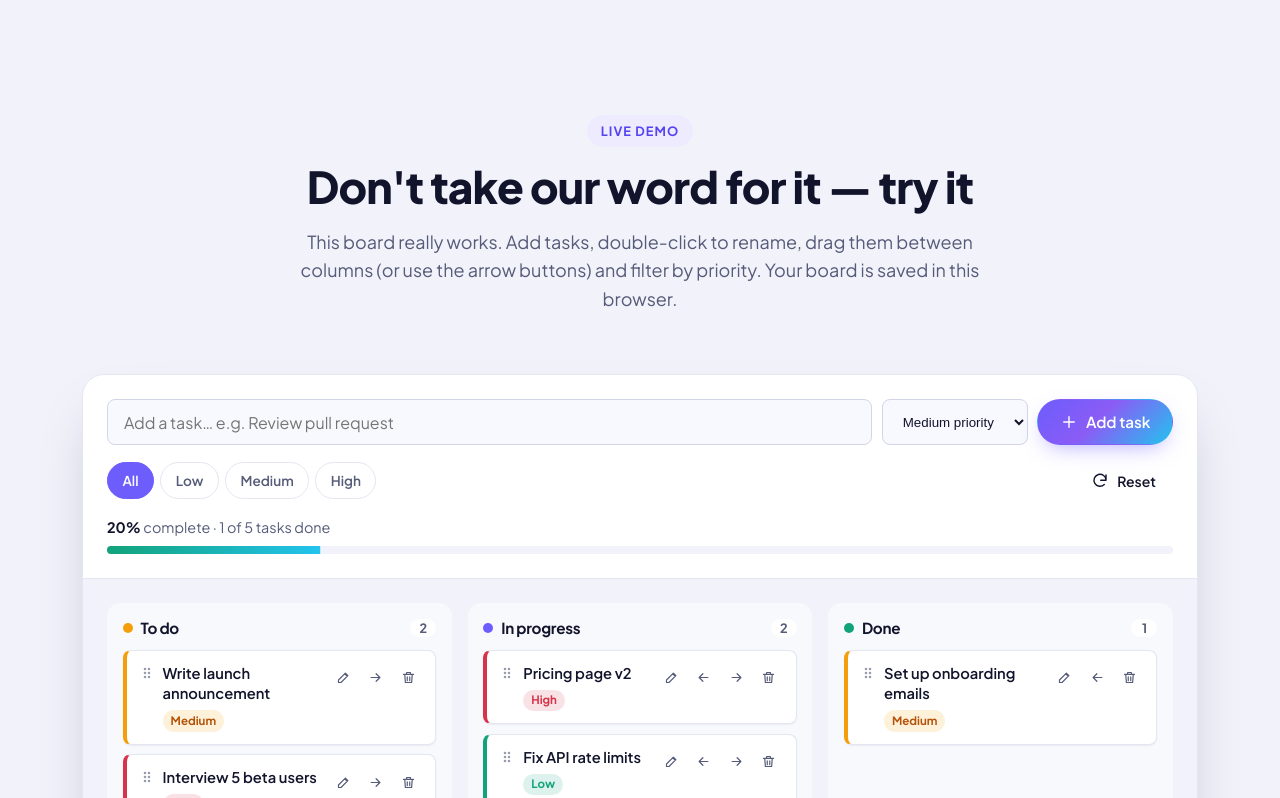
Scenario: BoardDemo › moves a task with the keyboard-accessible arrow buttons
The width and height of the screenshot is (1280, 798).
Click the button named "Move \"Pricing page v2\" to Done": [736, 678] box top-left (721, 663), bottom-right (751, 693)
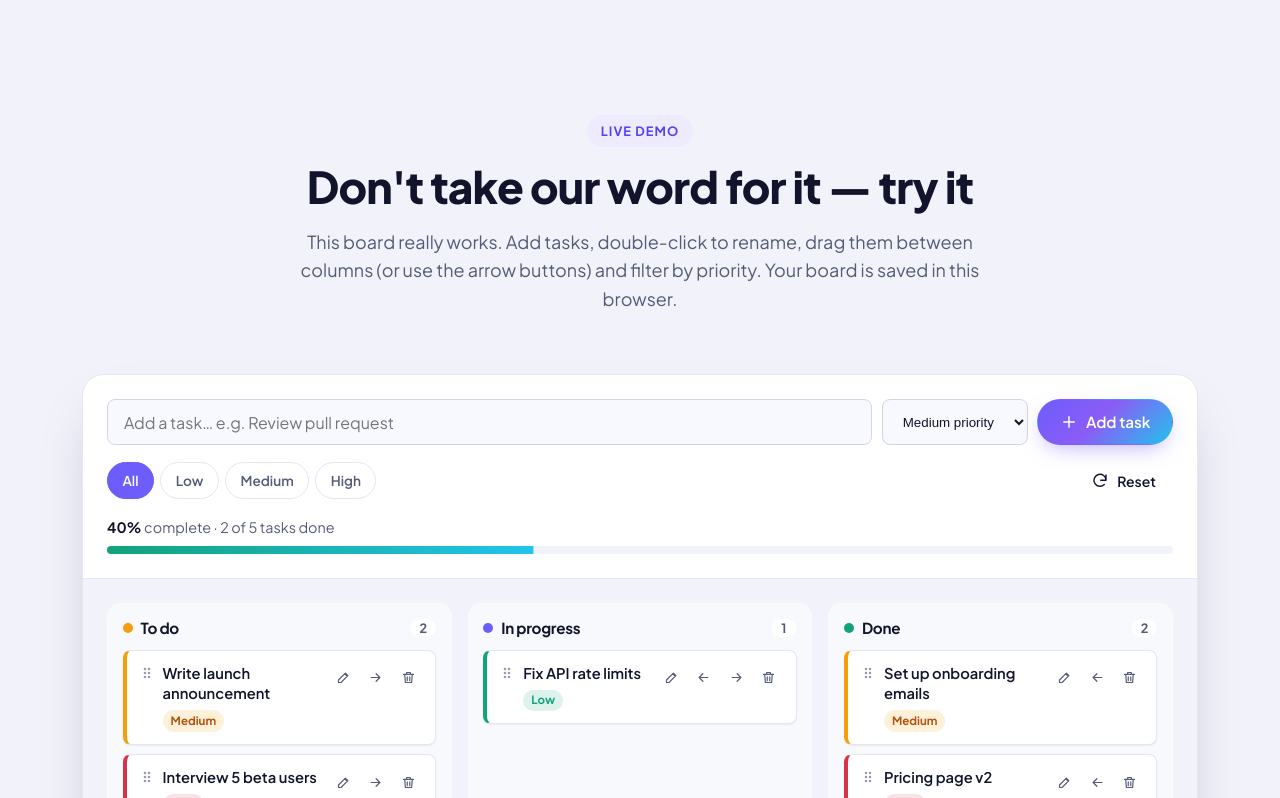
Result: the text "40%" is shown at top-left (107, 518), bottom-right (142, 536)
